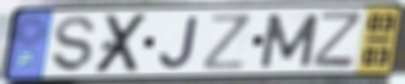J: (157, 14, 202, 71)
M: (257, 12, 322, 70)
S: (51, 15, 99, 74)
X: (91, 12, 152, 76)
Z: (310, 9, 365, 70), (200, 11, 253, 72)
